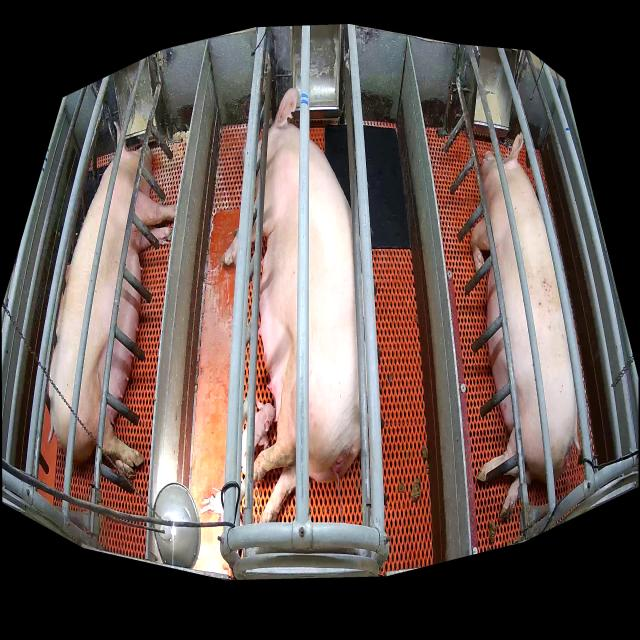pig: (224, 87, 361, 521), (48, 123, 176, 479), (471, 133, 580, 519), (241, 398, 275, 476), (200, 486, 224, 515)
